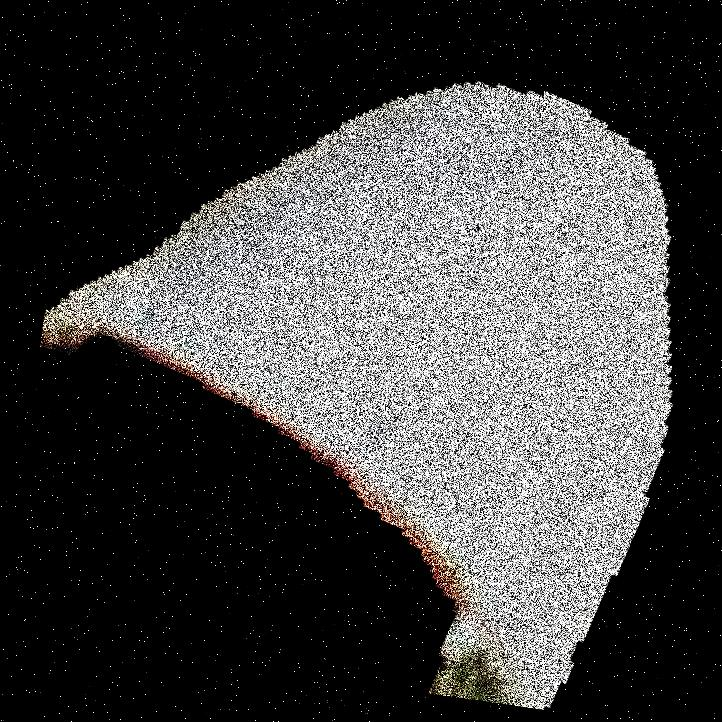Capacete: (303, 0, 721, 721)
